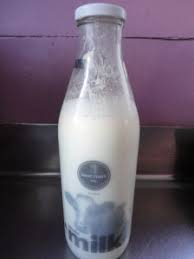milk: (46, 2, 148, 257)
